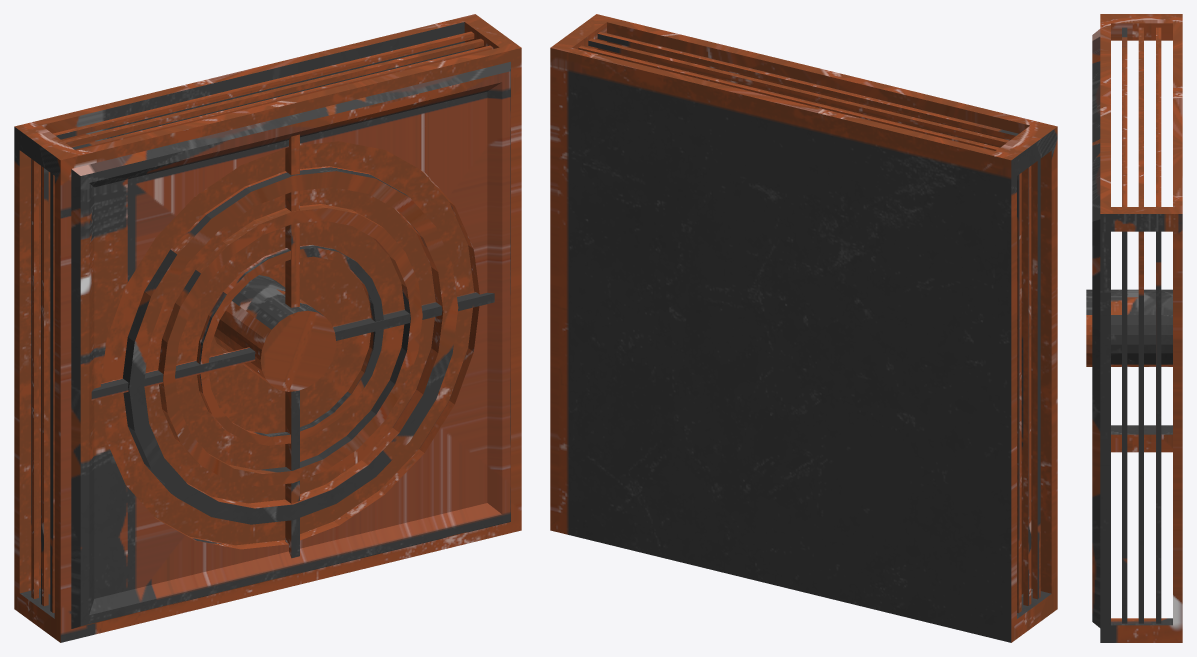
Rendered from FanCopper.gltf.
The picture shows the model from 3 angles, left to right: view 1: azimuth 30°, elevation 25°; view 2: azimuth 150°, elevation 25°; view 3: azimuth 270°, elevation 25°; orthographic projection. The views are drawn at different scales.
Parts seen in each view (by area): view 1: Belki; view 2: Belki; view 3: Belki.
Boxes of the visible parts, box(x1,y1,x2,y2) form: Belki: box(14, 14, 521, 642); Belki: box(550, 14, 1057, 642); Belki: box(1086, 14, 1182, 642).
Bounding box in the file's own units: 2 × 2 × 0.4069.
1 material, 1 textured.
